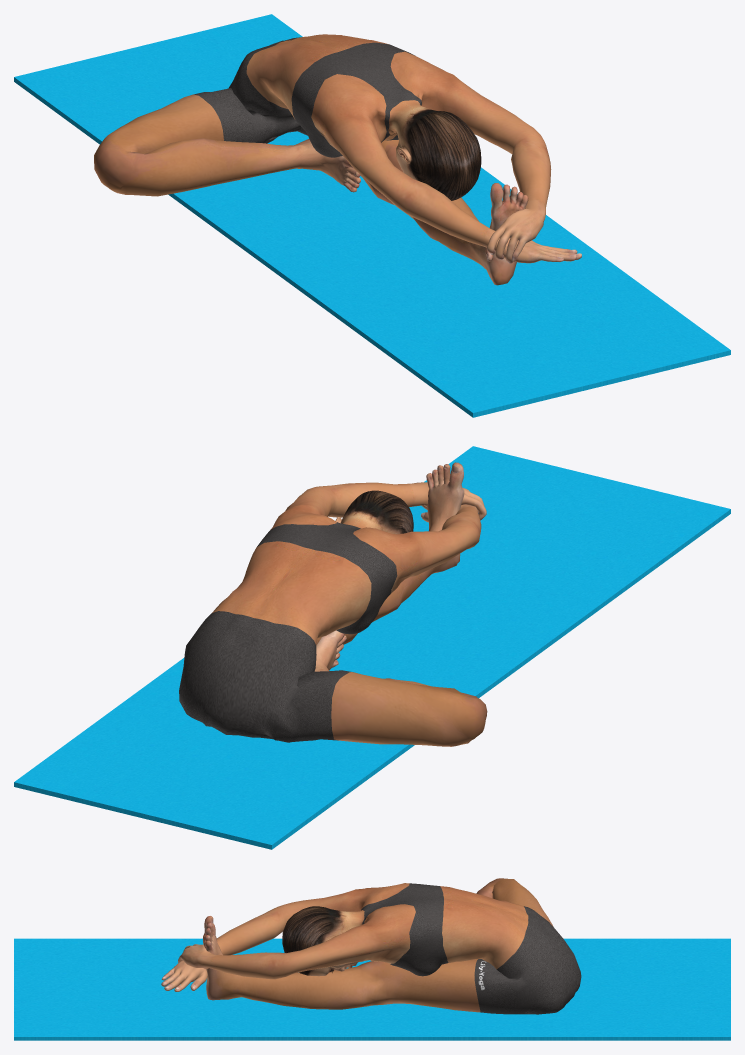
Rendered from janu_sirsasana.glb.
3 renders of one model, top to bottom at view 1: azimuth 30°, elevation 25°; view 2: azimuth 150°, elevation 25°; view 3: azimuth 270°, elevation 25°, orthographic. The views are drawn at different scales.
Visible parts, largest first — view 1: Mat-one-piece_jpg-material, Lily_Texture2017-07-24Yellower_jpg-material; view 2: Mat-one-piece_jpg-material, Lily_Texture2017-07-24Yellower_jpg-material; view 3: Mat-one-piece_jpg-material, Lily_Texture2017-07-24Yellower_jpg-material.
Boxes of the visible parts, <box> form: Mat-one-piece_jpg-material: <box>14,14,730,417</box>; Lily_Texture2017-07-24Yellower_jpg-material: <box>94,34,581,285</box>; Mat-one-piece_jpg-material: <box>14,446,730,849</box>; Lily_Texture2017-07-24Yellower_jpg-material: <box>179,462,487,746</box>; Mat-one-piece_jpg-material: <box>14,938,730,1040</box>; Lily_Texture2017-07-24Yellower_jpg-material: <box>161,878,581,1014</box>.
Bounding box in the file's own units: 2.49 × 0.9898 × 6.17.
Materials: 3 (2 with a texture image).
